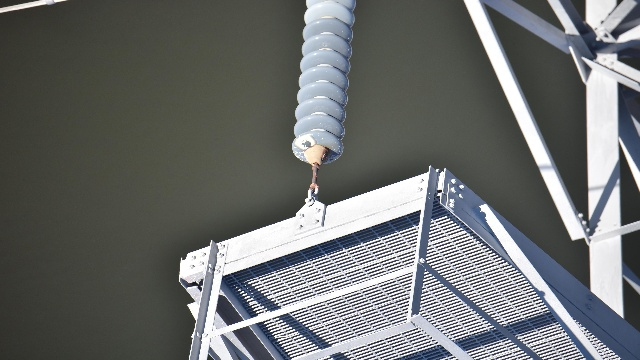insulator_unspecified: (291, 0, 357, 165)
pollution_flashover_local: (293, 132, 319, 153)
